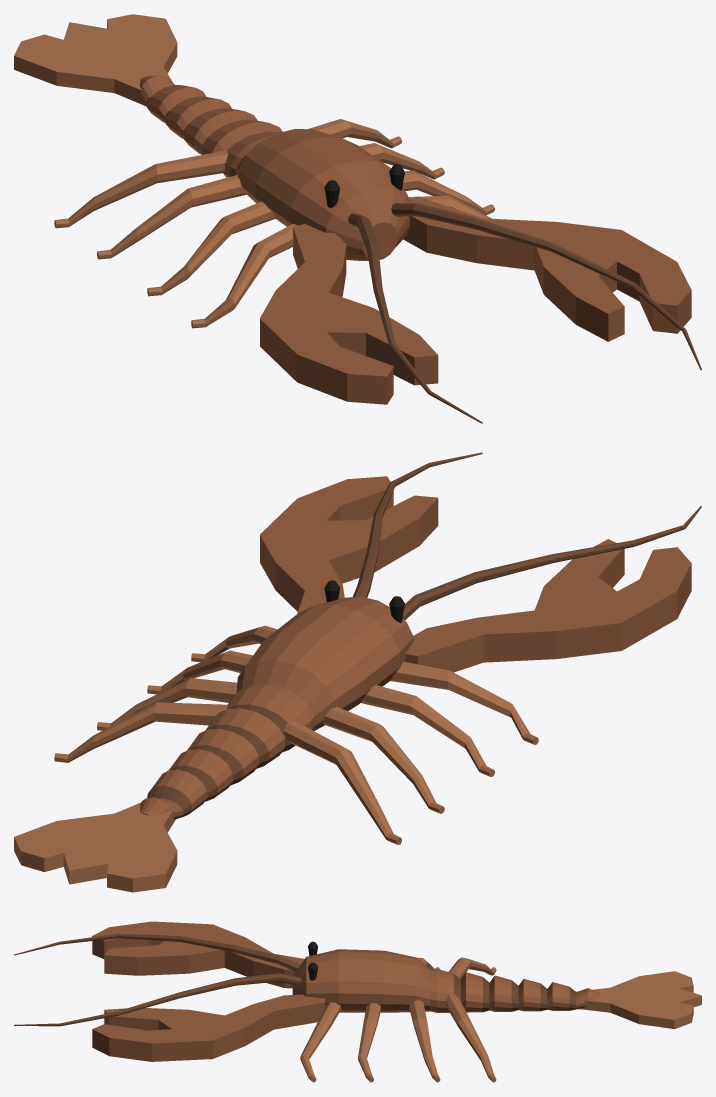
The picture shows the model from 3 angles, top to bottom: view 1: azimuth 30°, elevation 25°; view 2: azimuth 150°, elevation 25°; view 3: azimuth 270°, elevation 25°; orthographic projection. The views are drawn at different scales.
Visible parts, largest first — view 1: WholeForecarapaceAndRidgedLongAbdomen, WholeLongForelimbAndOpenChela0, WholeLongForelimbAndOpenChela1, WholeScallopedHorizontalTailFan, WholeLongSweptAntenna1, WholeBentWalkingLeg0_3, WholeBentWalkingLeg0_2, WholeBentWalkingLeg0_1, WholeBentWalkingLeg0_0, WholeLongSweptAntenna0, WholeBentWalkingLeg1_3, WholeBentWalkingLeg1_1 (+1 smaller); view 2: WholeForecarapaceAndRidgedLongAbdomen, WholeLongForelimbAndOpenChela0, WholeLongForelimbAndOpenChela1, WholeScallopedHorizontalTailFan, WholeLongSweptAntenna0, WholeBentWalkingLeg0_3, WholeBentWalkingLeg1_3, WholeBentWalkingLeg0_0, WholeBentWalkingLeg0_2, WholeBentWalkingLeg0_1, WholeBentWalkingLeg1_2, WholeLongSweptAntenna1 (+2 smaller); view 3: WholeForecarapaceAndRidgedLongAbdomen, WholeLongForelimbAndOpenChela1, WholeLongForelimbAndOpenChela0, WholeScallopedHorizontalTailFan, WholeLongSweptAntenna1, WholeLongSweptAntenna0, WholeBentWalkingLeg1_3, WholeBentWalkingLeg1_0, WholeBentWalkingLeg1_2, WholeBentWalkingLeg1_1, WholeBentWalkingLeg0_3.
Part boxes in pixels (box(x1,y1,x2,y2)): WholeForecarapaceAndRidgedLongAbdomen: box(140, 75, 411, 260); WholeLongForelimbAndOpenChela0: box(260, 224, 438, 404); WholeLongForelimbAndOpenChela1: box(403, 196, 691, 341); WholeScallopedHorizontalTailFan: box(14, 14, 177, 106); WholeLongSweptAntenna1: box(391, 203, 701, 370); WholeBentWalkingLeg0_3: box(54, 150, 228, 228); WholeBentWalkingLeg0_2: box(97, 175, 246, 259); WholeBentWalkingLeg0_1: box(147, 201, 275, 296); WholeBentWalkingLeg0_0: box(191, 223, 297, 328); WholeLongSweptAntenna0: box(348, 213, 482, 423); WholeBentWalkingLeg1_3: box(307, 119, 401, 148); WholeBentWalkingLeg1_1: box(402, 170, 494, 215); WholeForecarapaceAndRidgedLongAbdomen: box(140, 596, 413, 819); WholeLongForelimbAndOpenChela0: box(405, 539, 691, 672); WholeLongForelimbAndOpenChela1: box(260, 476, 438, 613); WholeScallopedHorizontalTailFan: box(14, 802, 177, 892); WholeLongSweptAntenna0: box(402, 506, 701, 620); WholeBentWalkingLeg0_3: box(283, 721, 401, 844); WholeBentWalkingLeg1_3: box(54, 702, 227, 762); WholeBentWalkingLeg0_0: box(390, 661, 538, 744); WholeBentWalkingLeg0_2: box(323, 707, 444, 813); WholeBentWalkingLeg0_1: box(361, 685, 494, 776); WholeBentWalkingLeg1_2: box(97, 678, 237, 730); WholeLongSweptAntenna1: box(353, 452, 482, 597); WholeForecarapaceAndRidgedLongAbdomen: box(292, 949, 601, 1012); WholeLongForelimbAndOpenChela1: box(92, 994, 325, 1061); WholeLongForelimbAndOpenChela0: box(92, 921, 304, 988); WholeScallopedHorizontalTailFan: box(576, 971, 701, 1029); WholeLongSweptAntenna1: box(14, 973, 301, 1026); WholeLongSweptAntenna0: box(14, 934, 300, 971); WholeBentWalkingLeg1_3: box(445, 994, 496, 1082); WholeBentWalkingLeg1_0: box(300, 1002, 341, 1082); WholeBentWalkingLeg1_2: box(409, 1000, 440, 1082); WholeBentWalkingLeg1_1: box(358, 1003, 381, 1082); WholeBentWalkingLeg0_3: box(449, 957, 496, 979).
Size of the model in its own units: 1.7 by 0.485 by 4.05.
